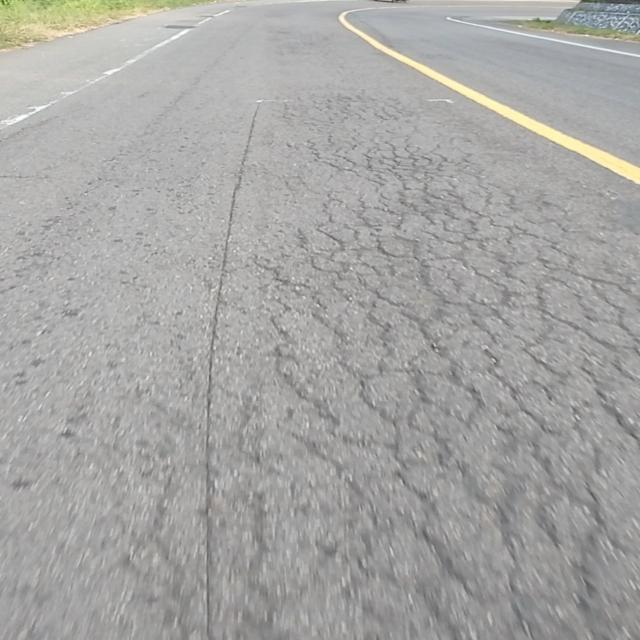Retak Buaya: (265, 102, 640, 640)
